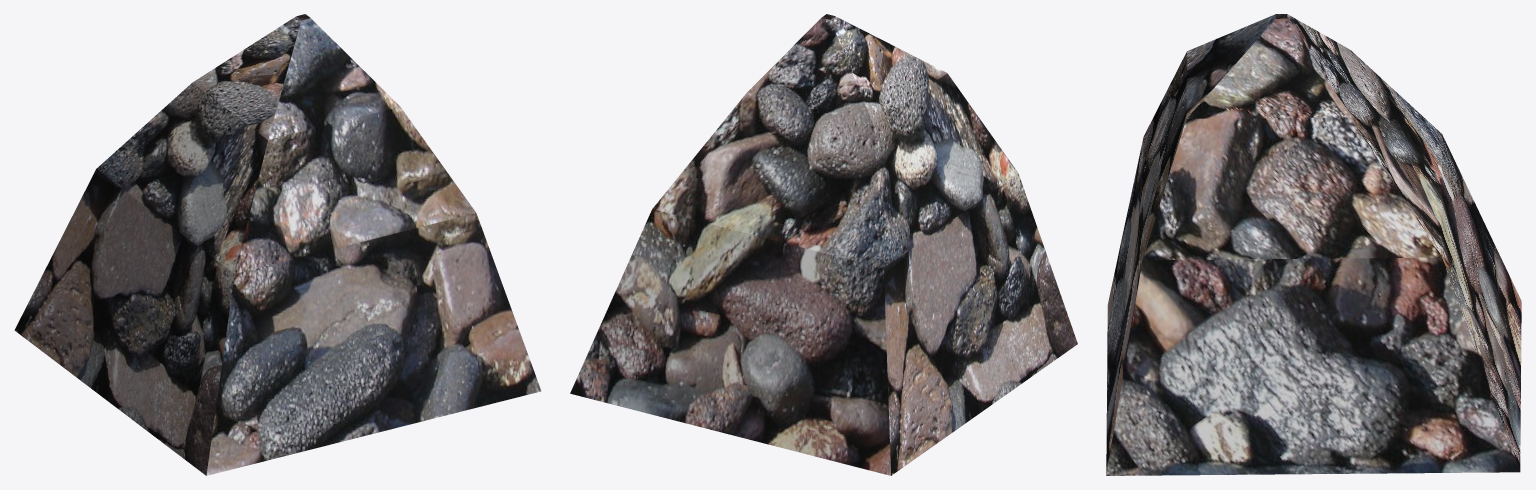
Rendered from pebble_initial.obj.
3 renders of one model, left to right at view 1: azimuth 30°, elevation 25°; view 2: azimuth 150°, elevation 25°; view 3: azimuth 270°, elevation 25°, orthographic. The views are drawn at different scales.
Visible parts, largest first — view 1: Plane; view 2: Plane; view 3: Plane.
Boxes of the visible parts, bbox=[...] form: Plane: bbox=[14, 14, 541, 475]; Plane: bbox=[570, 14, 1077, 475]; Plane: bbox=[1106, 14, 1521, 475].
Bounding box in the file's own units: 0.1204 × 0.1221 × 0.1204.
1 material, 1 textured.
